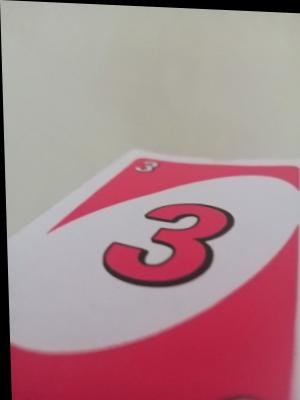num_3: (132, 153, 168, 179)
